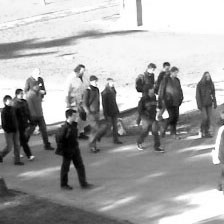person: (60, 108, 88, 190), (26, 83, 54, 152), (67, 63, 90, 140), (138, 83, 163, 151), (161, 66, 184, 139), (11, 88, 34, 160), (1, 94, 23, 164), (81, 75, 100, 154), (196, 70, 217, 139), (101, 77, 122, 144), (26, 67, 45, 137), (139, 62, 157, 128), (157, 61, 171, 135), (216, 111, 224, 194)
